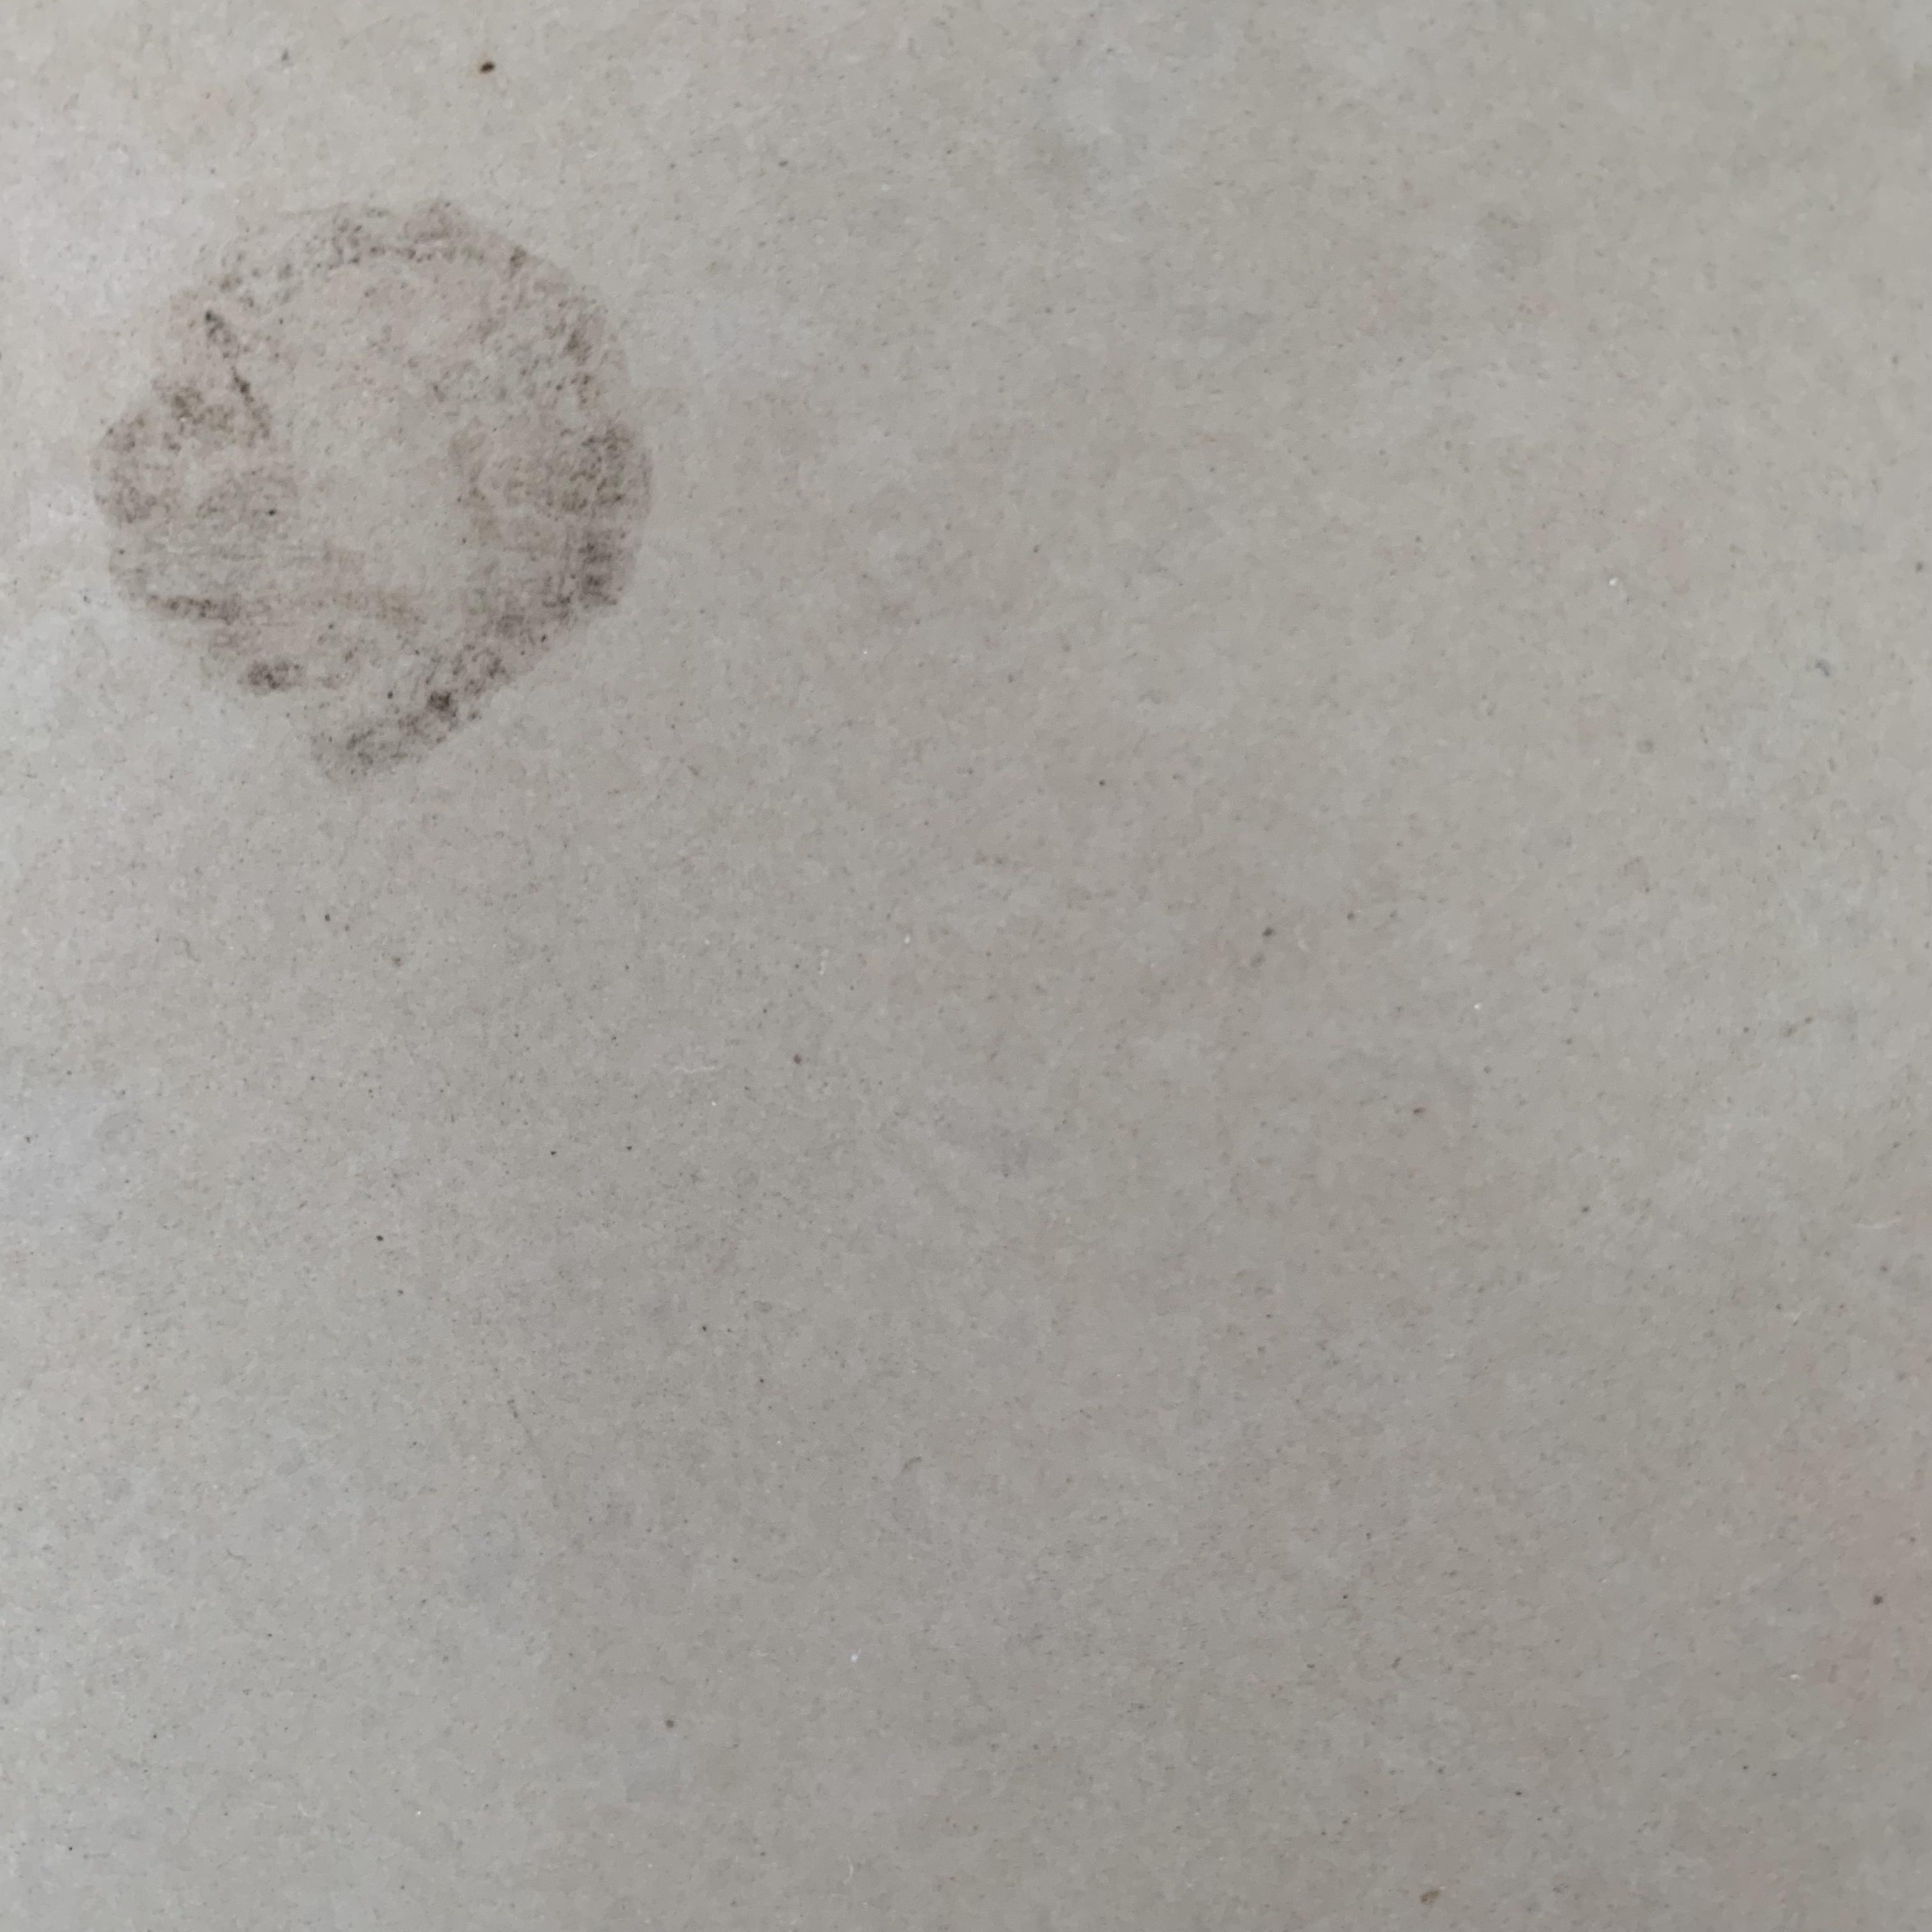grey spot: (90, 200, 653, 787)
